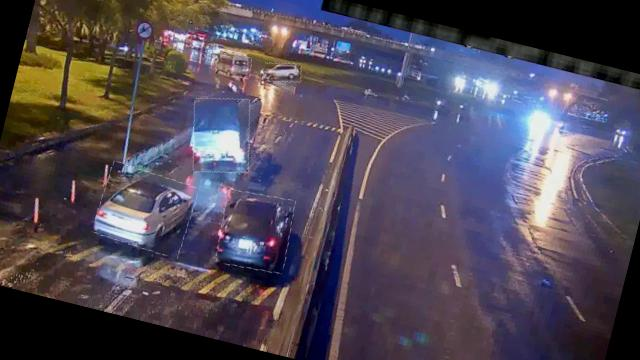Bus: (213, 50, 253, 81)
Car: (92, 162, 200, 259), (212, 187, 298, 278), (261, 57, 303, 88)
Truck: (182, 90, 262, 182)
